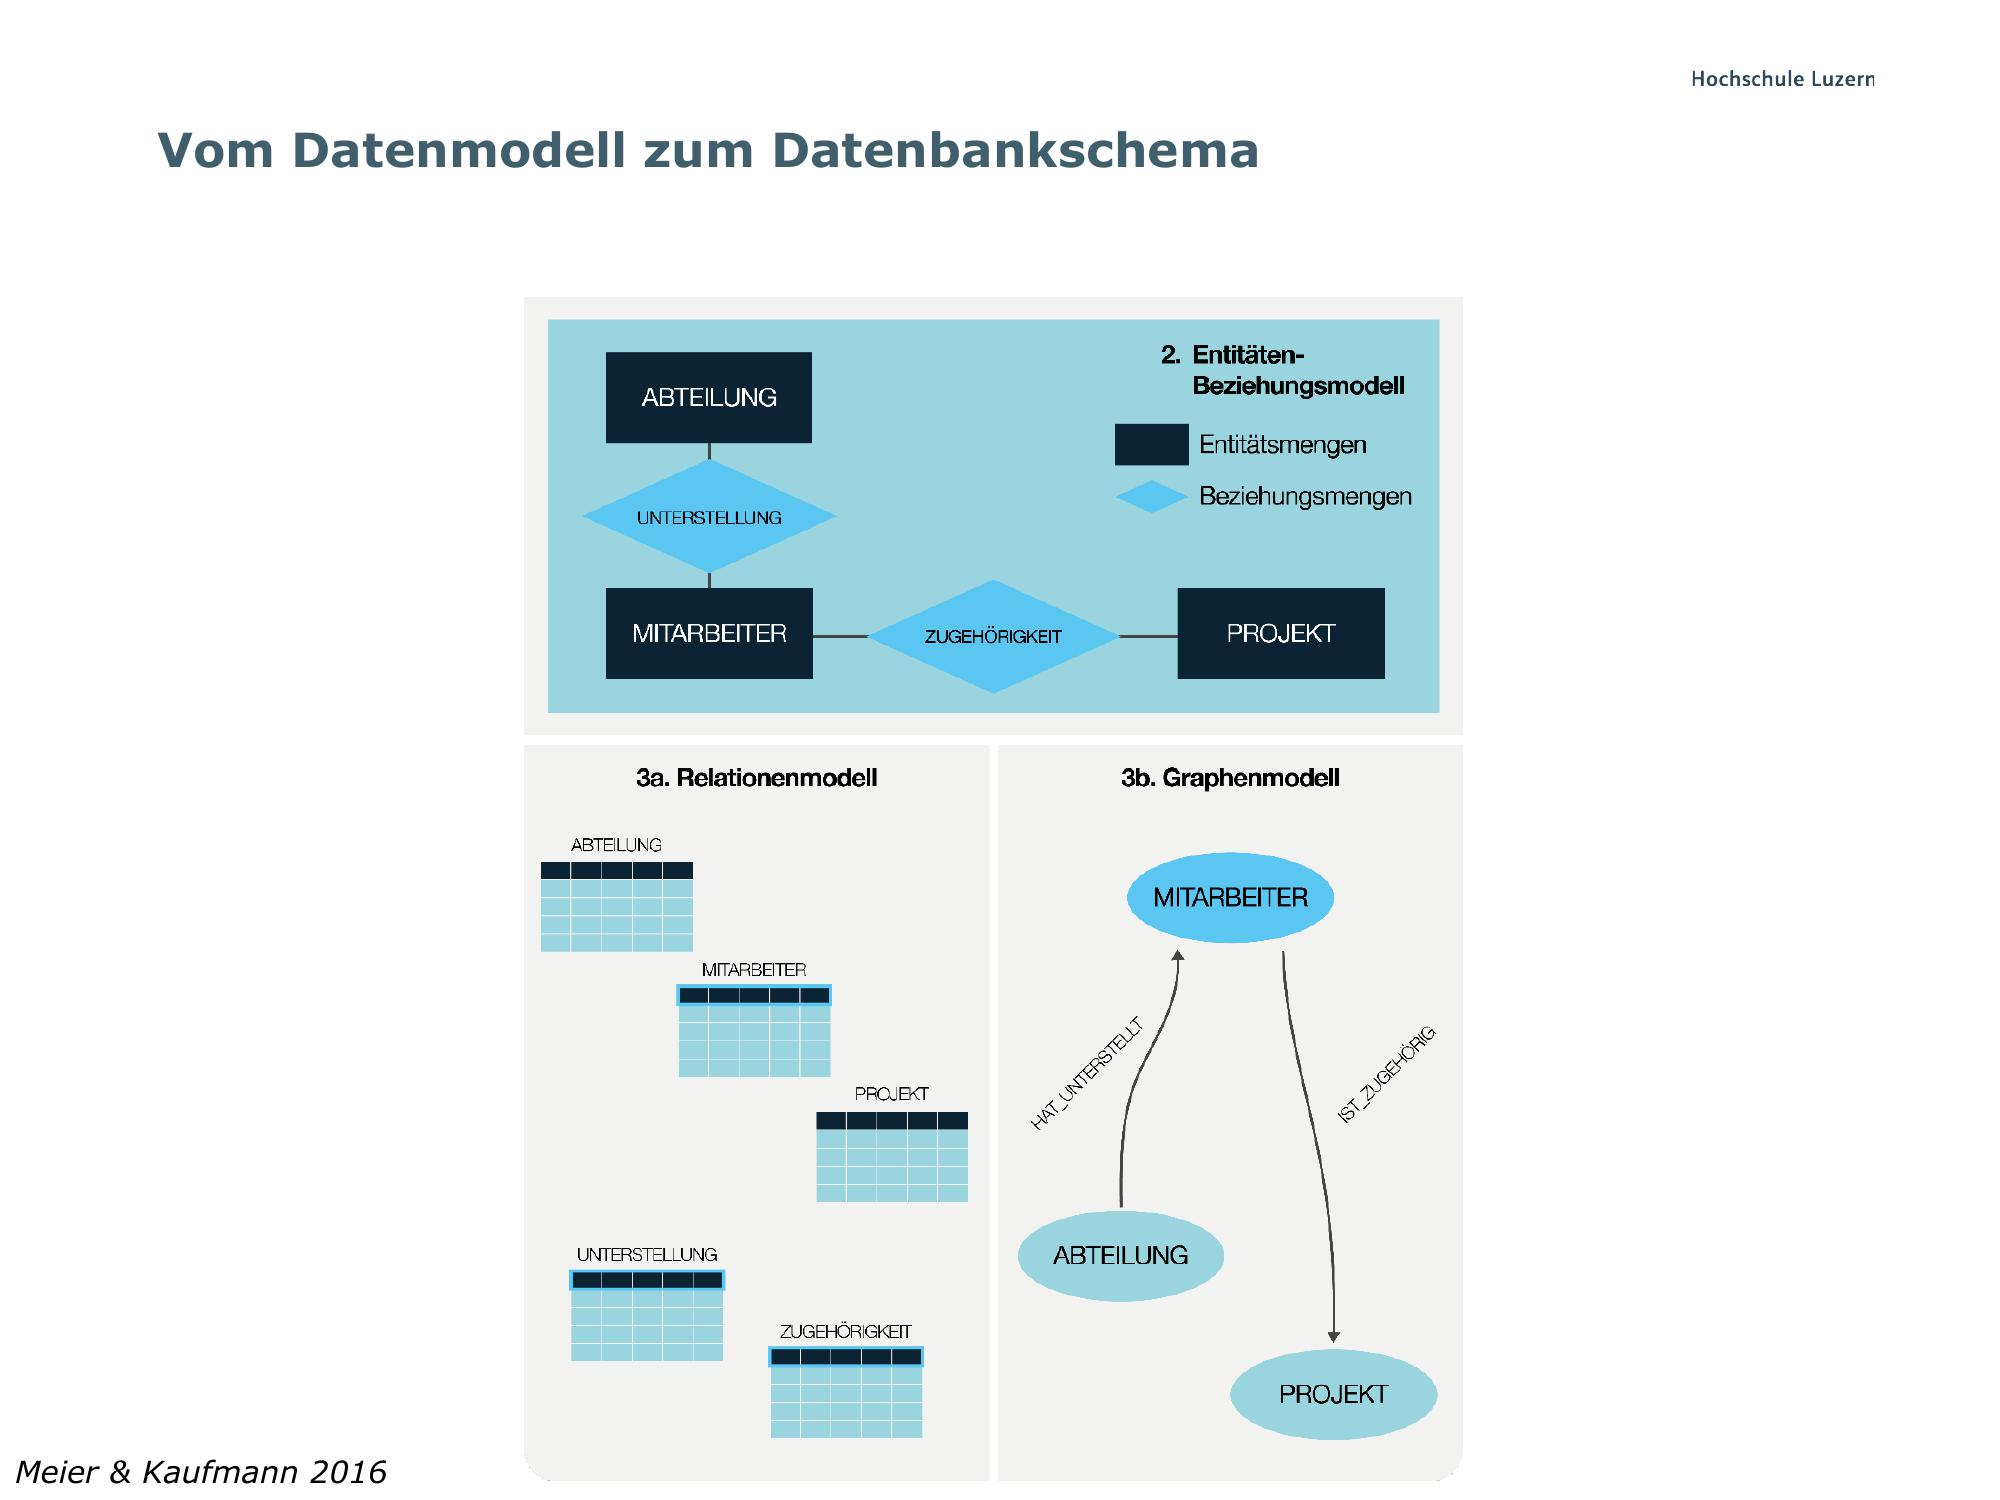Title: (142, 117, 1271, 192)
